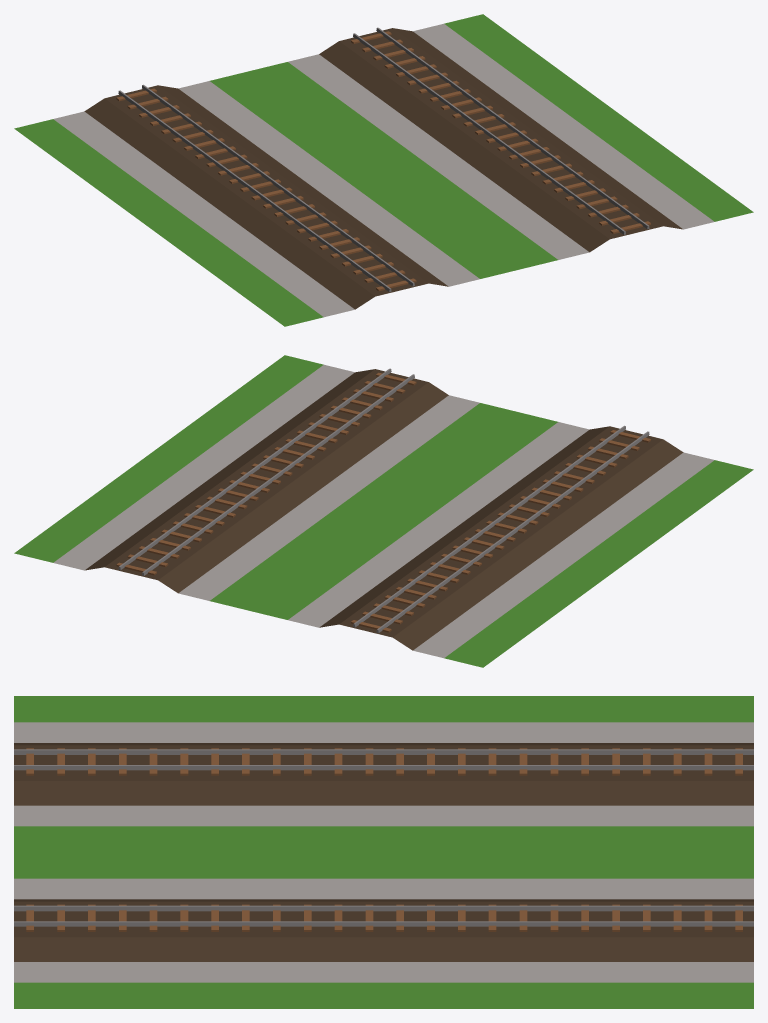
File: tiles-nb_tile-rail-straight-double-nb.fbx
The picture shows the model from 3 angles, top to bottom: view 1: azimuth 30°, elevation 25°; view 2: azimuth 150°, elevation 25°; view 3: azimuth 270°, elevation 25°; orthographic projection. The views are drawn at different scales.
Visible parts, largest first — view 1: tiles_nb_tile_rail_straight_double_nb; view 2: tiles_nb_tile_rail_straight_double_nb; view 3: tiles_nb_tile_rail_straight_double_nb.
Boxes of the visible parts, <box> form: tiles_nb_tile_rail_straight_double_nb: <box>14,14,753,326</box>; tiles_nb_tile_rail_straight_double_nb: <box>14,355,753,667</box>; tiles_nb_tile_rail_straight_double_nb: <box>14,696,753,1008</box>.
Size of the model in its own units: 200 by 4.97 by 200.
